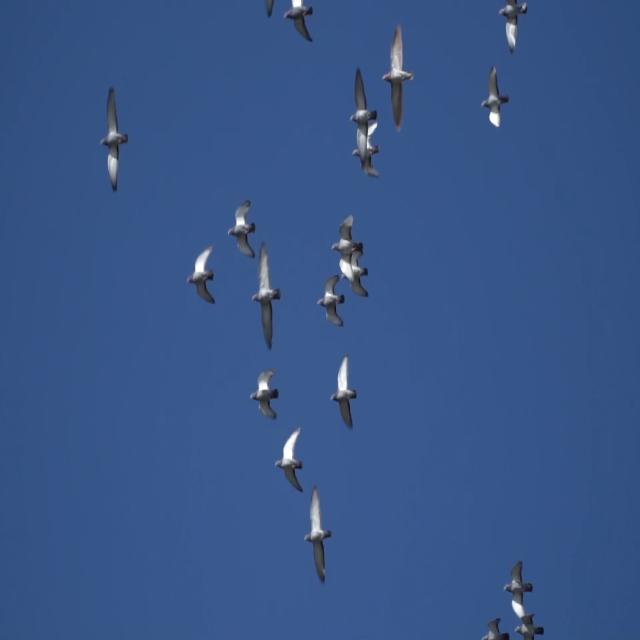bird: (381, 22, 415, 134), (251, 241, 282, 352), (302, 484, 334, 587), (99, 86, 129, 195), (348, 66, 378, 171), (328, 352, 359, 431), (330, 213, 364, 283), (273, 426, 304, 495), (502, 560, 534, 622), (480, 64, 510, 130), (226, 198, 257, 259), (186, 244, 216, 306), (277, 0, 318, 45), (351, 119, 381, 180), (498, 0, 530, 57), (248, 366, 280, 420), (316, 274, 344, 328), (340, 250, 370, 298), (513, 612, 547, 640), (475, 615, 510, 640)
